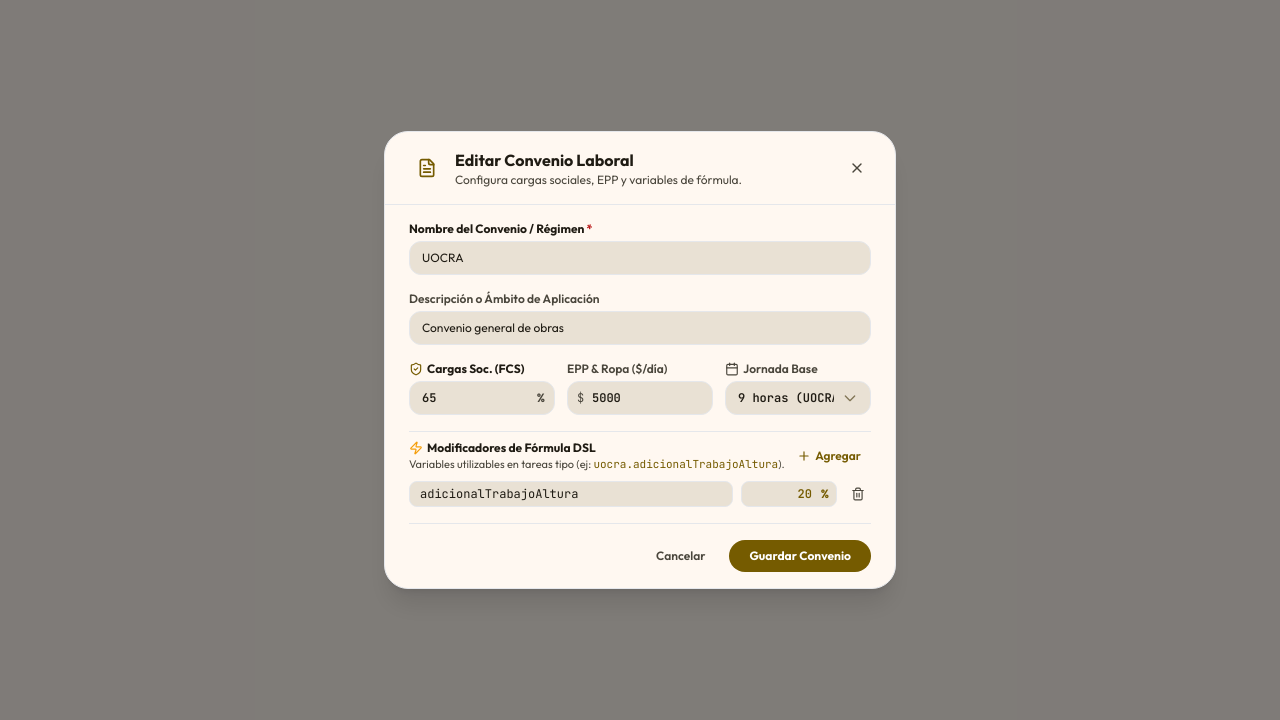
Test: ConvenioEditorModal › permite agregar un nuevo modificador de fórmula
The width and height of the screenshot is (1280, 720).
Step 1. Click the button "Agregar" → (829, 456), box [787,444,871,468]
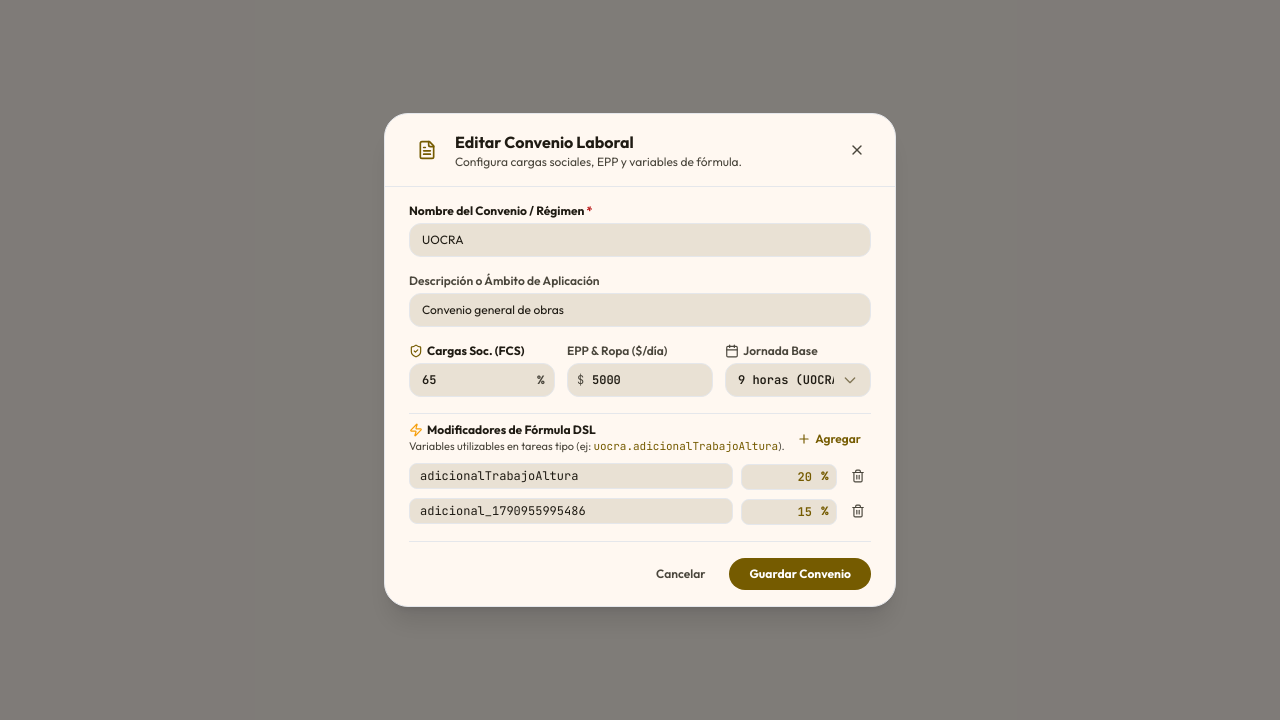
Expected: the number of buttons titled "Eliminar modificador" is 2, [845,463,871,489]; [845,498,871,524]
